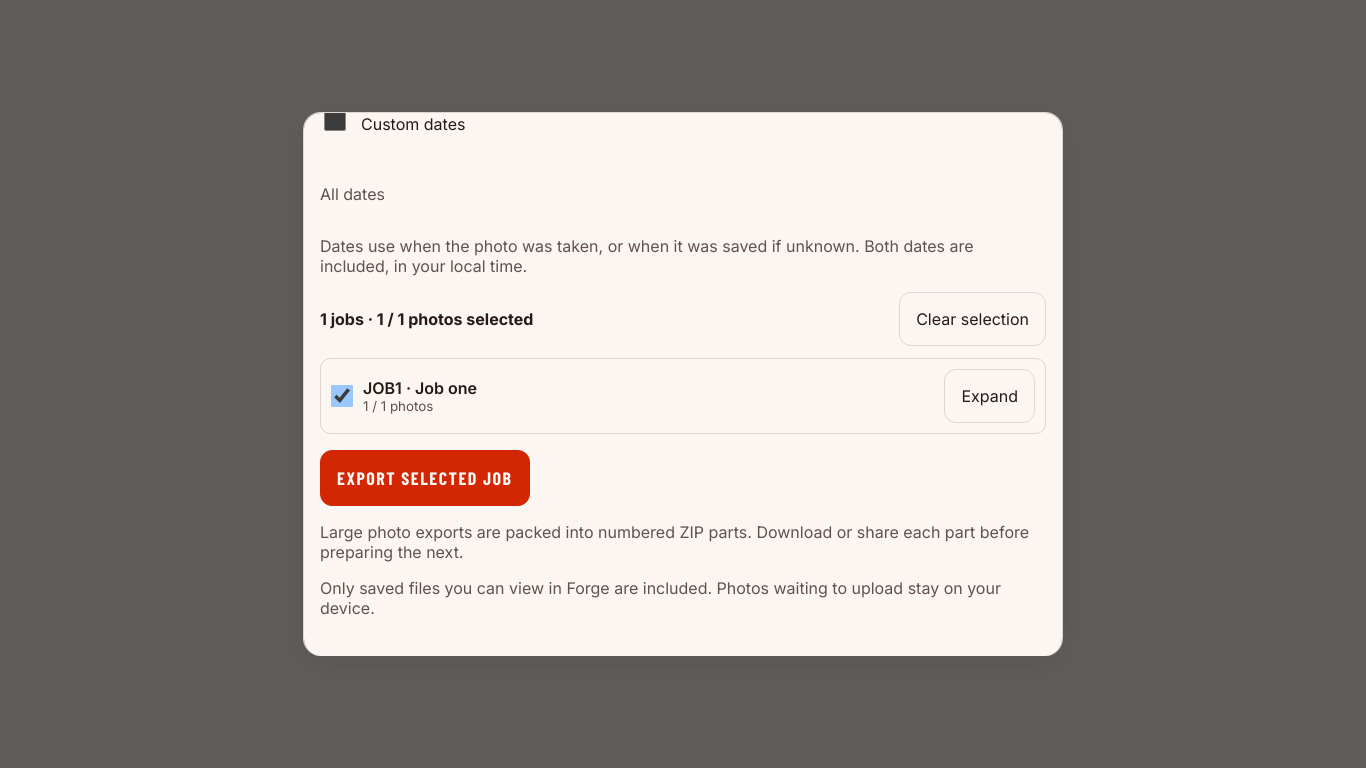
Test: canceling a pending later part revokes the prior URL and rejects its late result
This screenshot has width=1366, height=768.
(page scrolled)
Click the button "Export selected job".
click(425, 478)  # box top-left (320, 450), bottom-right (530, 506)
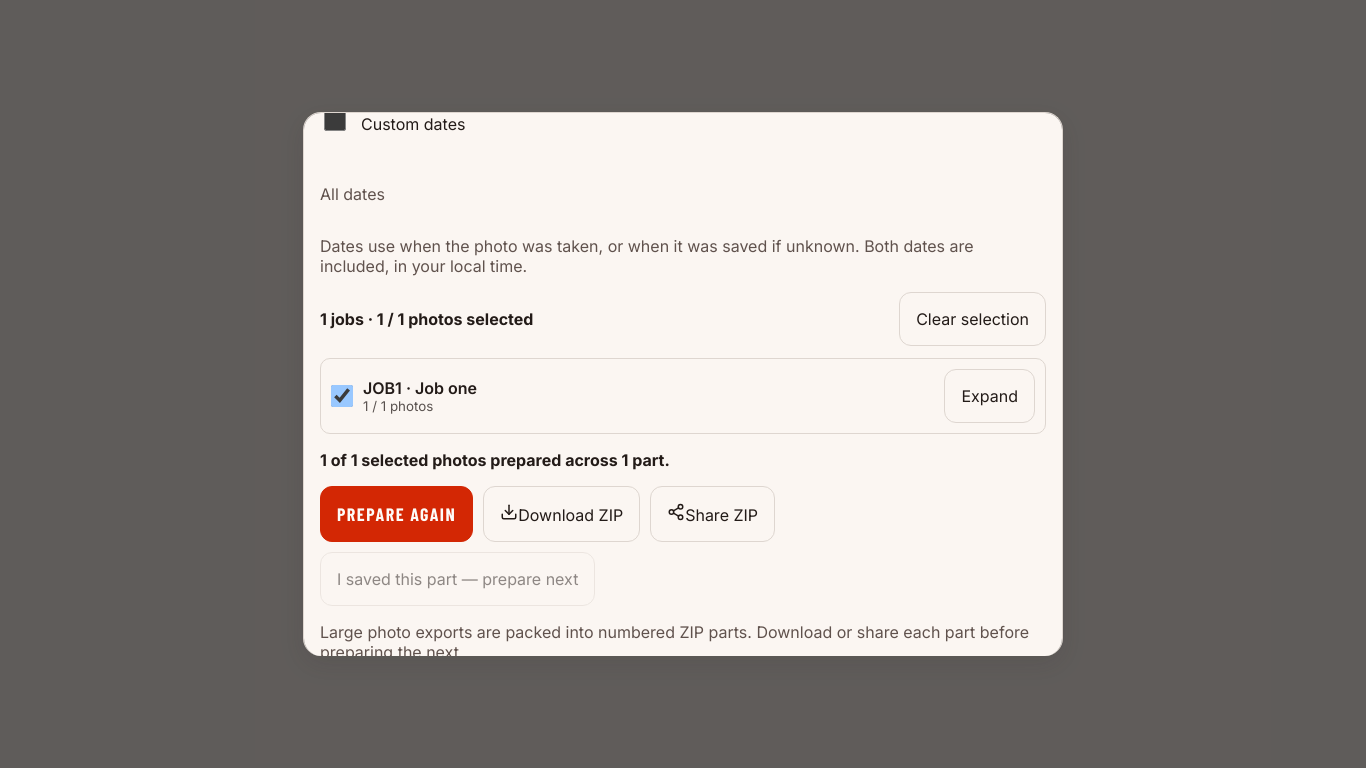
Click the button "Download ZIP".
click(562, 514)  # box top-left (483, 486), bottom-right (640, 542)
(page scrolled)
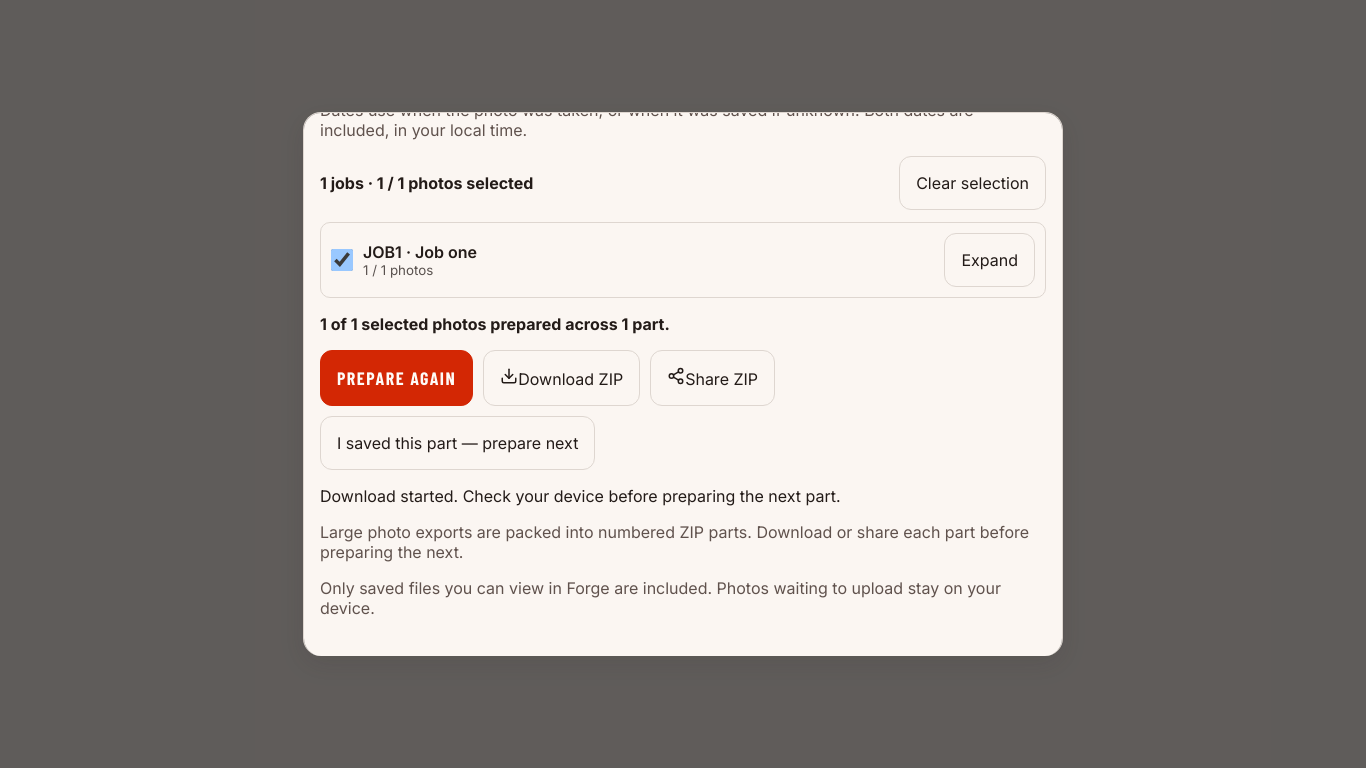
Click the button "I saved this part — prepare next".
click(458, 443)  # box top-left (320, 416), bottom-right (595, 470)
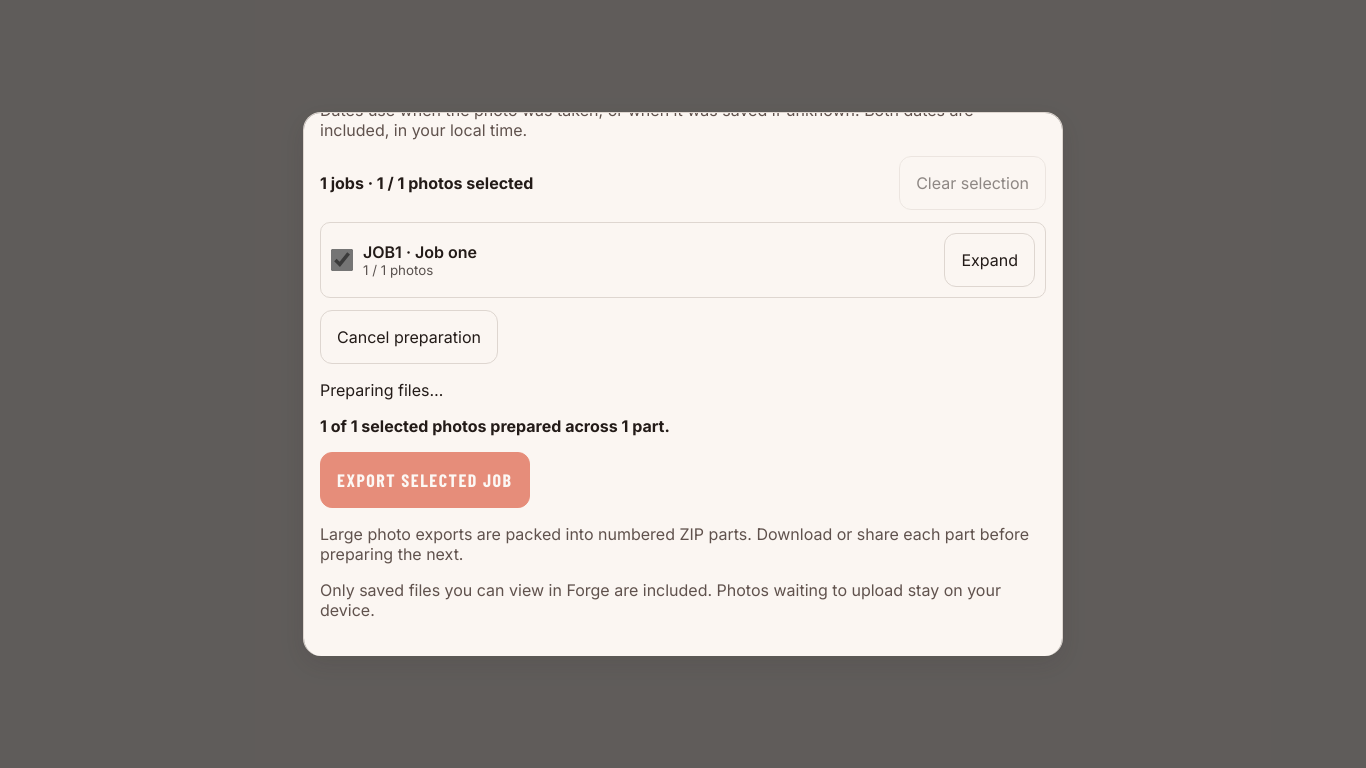
Click the button "Cancel preparation".
click(409, 337)  # box top-left (320, 310), bottom-right (498, 364)
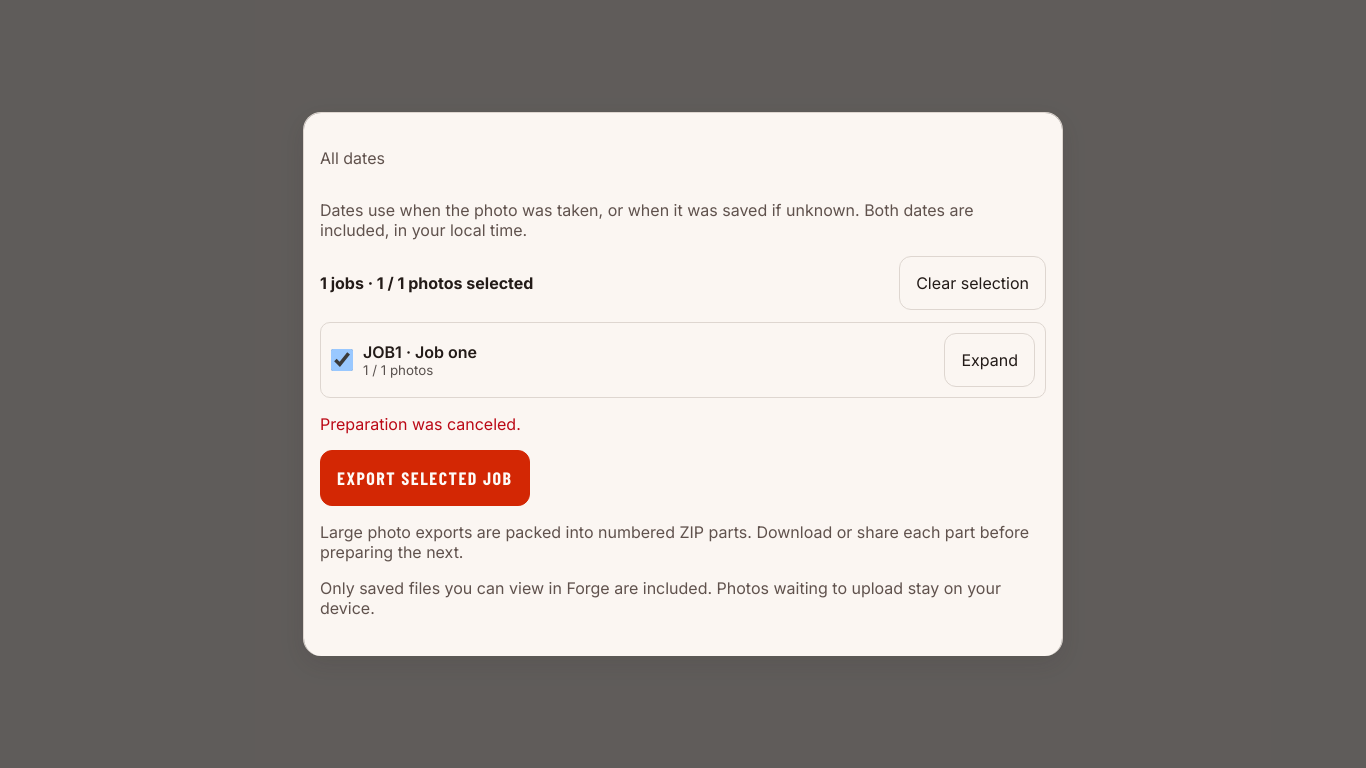
Check: the text "Preparation was canceled." is shown, box top-left (320, 414), bottom-right (521, 434)
